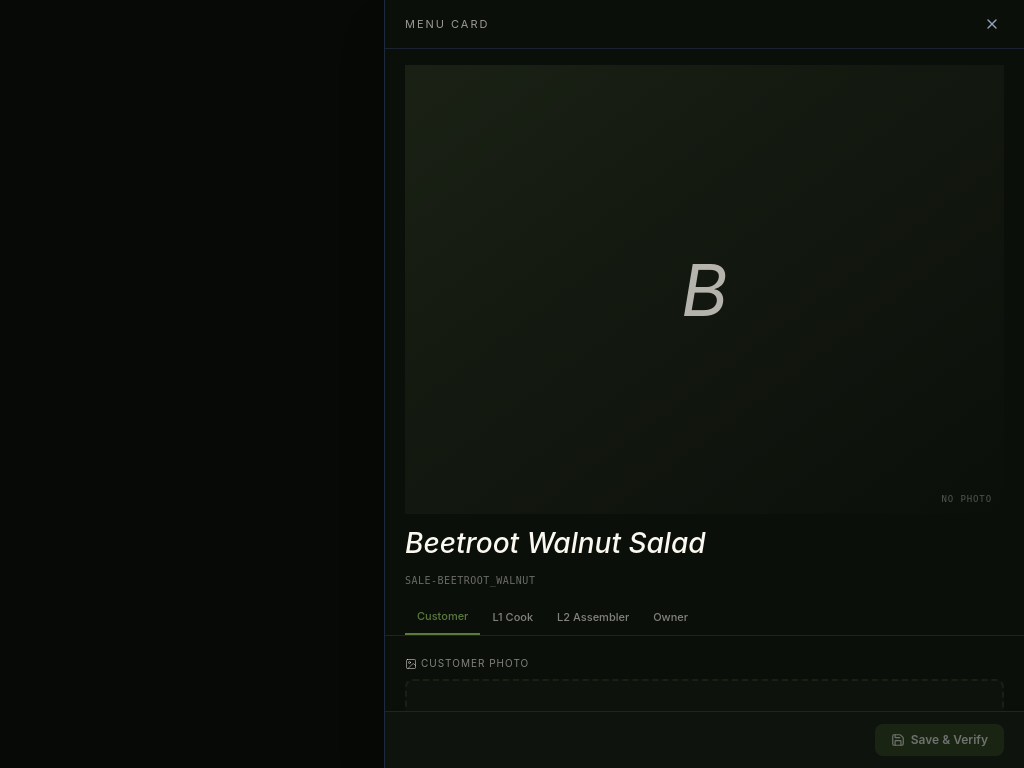
Test: shelf life on a finished dish › refuses to save a value that would print a wrong use-by date
This screenshot has width=1024, height=768.
Click the button "L2 Assembler" at (593, 618), box [545,600,641,635]
(page scrolled)
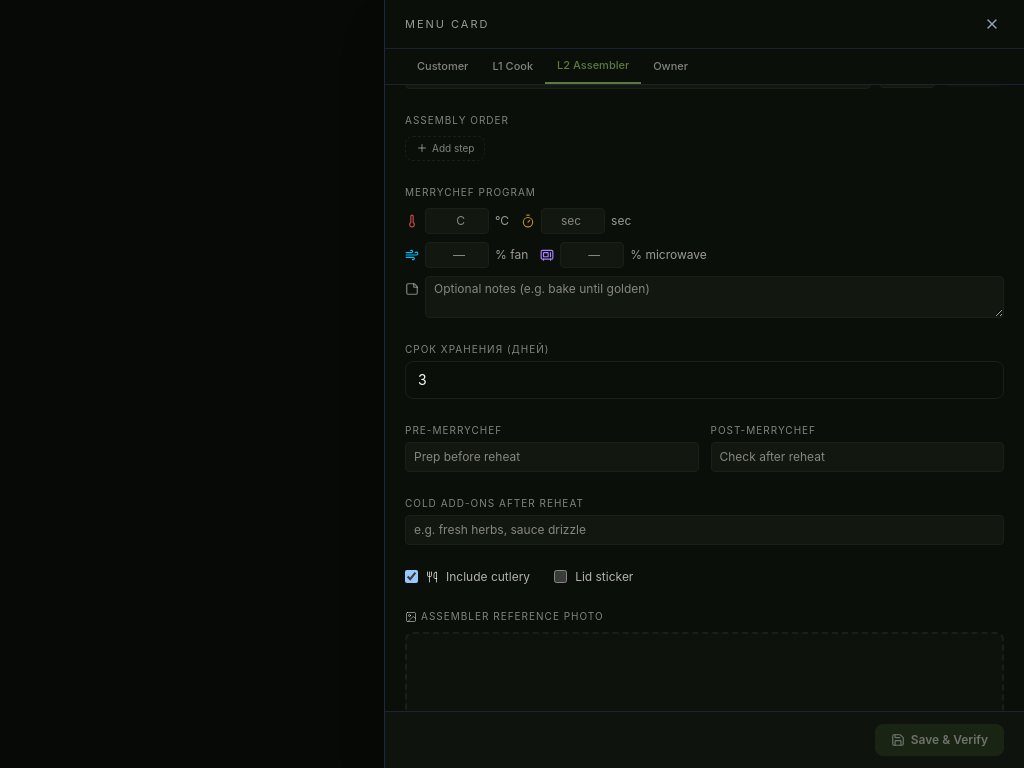
Replace the text in the 5th number field with "900" at (704, 380), box [405,361,1004,399]
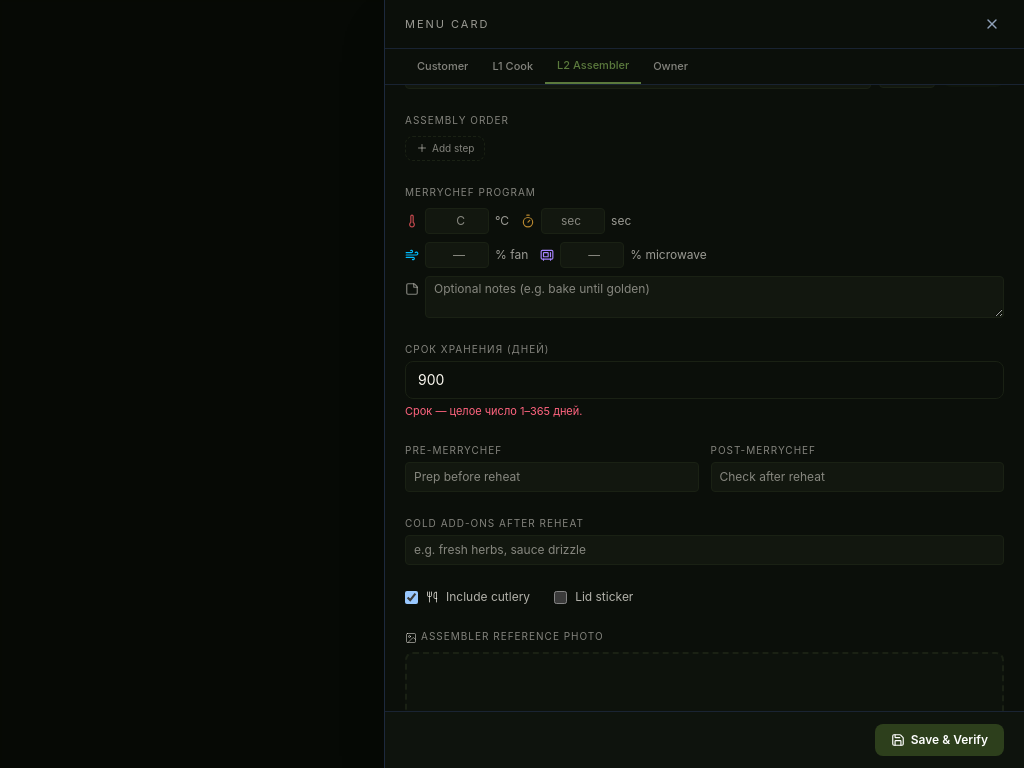
Click the button "Save & Verify" at (939, 740), box [875,724,1004,756]
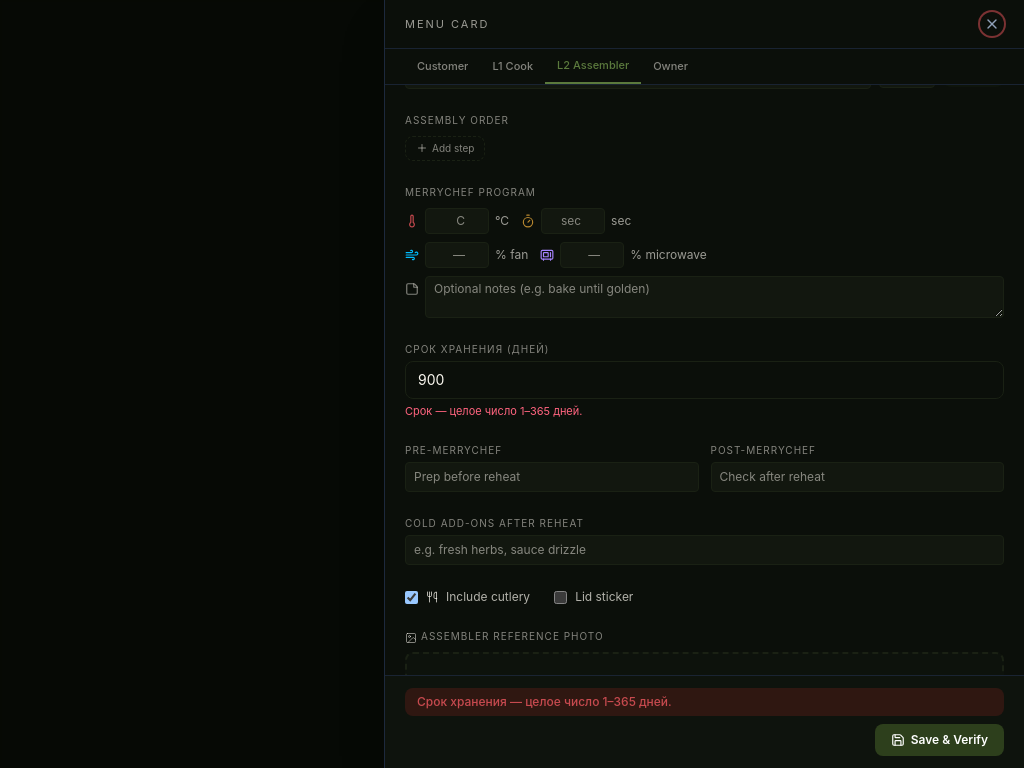
Expected: the text "Срок хранения — целое число 1–365 дней." is shown, [405,688,1004,716]
